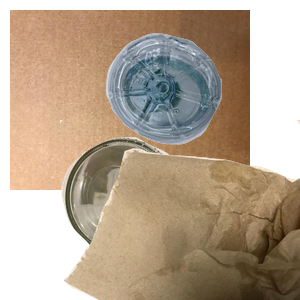cardboard: (10, 10, 250, 190)
glass: (59, 135, 254, 300)
plastic: (104, 31, 300, 168)
trash: (60, 120, 300, 300)
